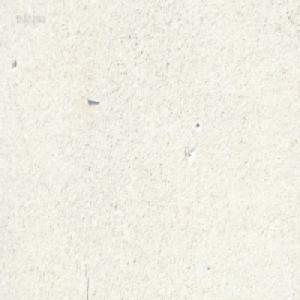Nail: (86, 95, 99, 103)
